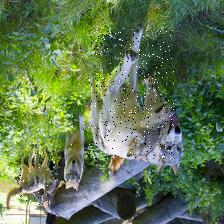WOLF: (88, 27, 174, 159), (11, 147, 57, 205), (62, 115, 83, 191)
